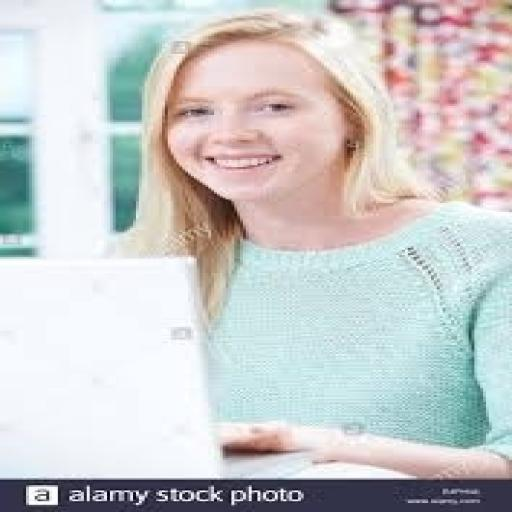using_laptop: (0, 207, 454, 510)
